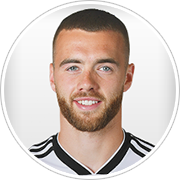smile: (71, 95, 103, 110)
